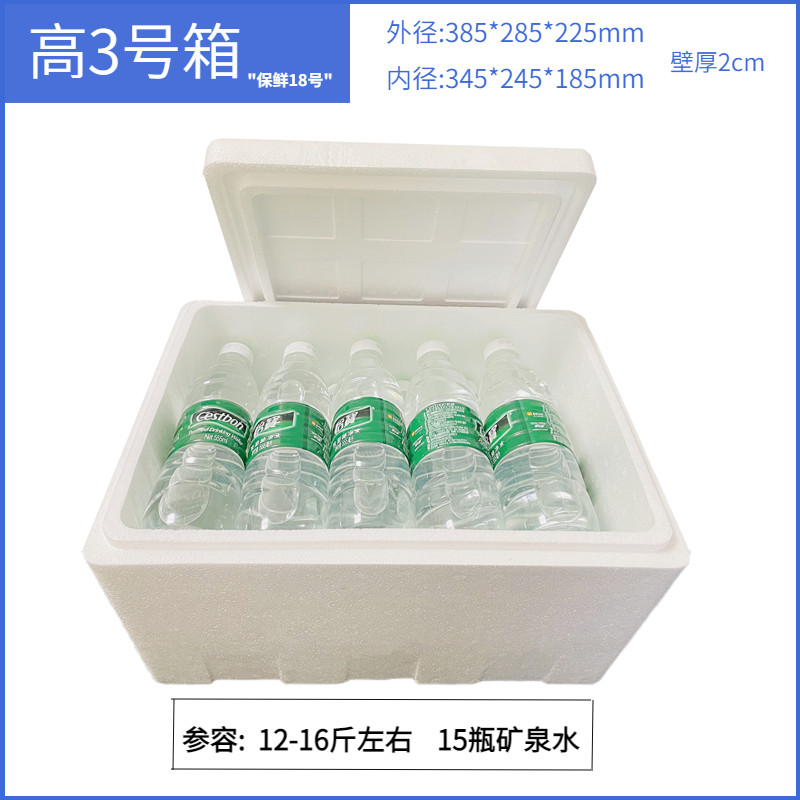Boxes: (84, 140, 687, 683)
